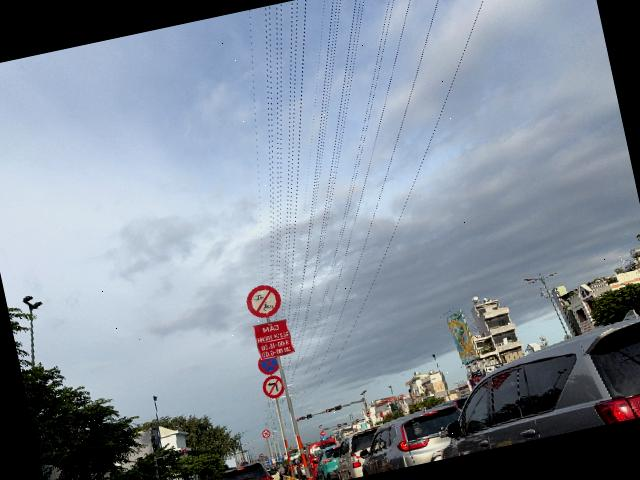cam-re-phai: (260, 373, 286, 400)
cam-xe-2-banh-3-banh: (242, 280, 284, 321)
